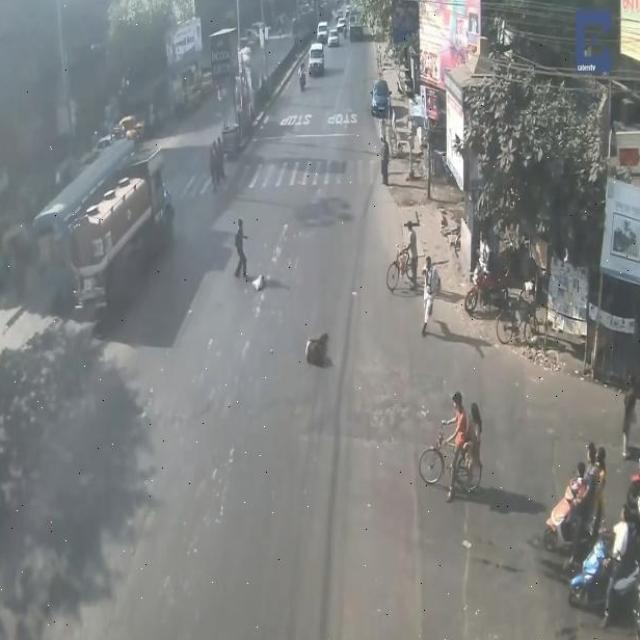accident: (303, 312, 334, 376)
